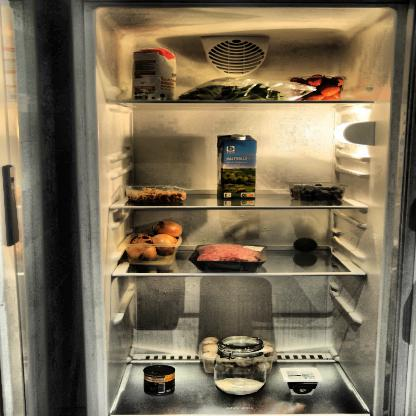blueberries: (287, 181, 352, 203)
corn: (142, 363, 176, 398)
green_beans: (176, 77, 316, 102)
ground_beef: (188, 241, 273, 275)
lime: (292, 238, 319, 253)
milk: (210, 131, 261, 208)
mushrooms: (198, 336, 274, 374)
onion: (124, 219, 182, 263)
shrimp: (123, 185, 189, 204)
strawberries: (288, 73, 345, 101)
